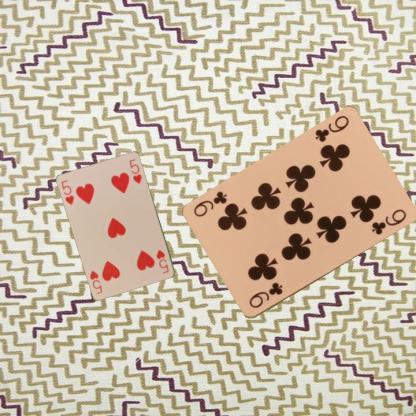5h: (59, 178, 75, 206), (154, 247, 170, 274)
9c: (312, 113, 351, 144), (246, 280, 284, 310)
